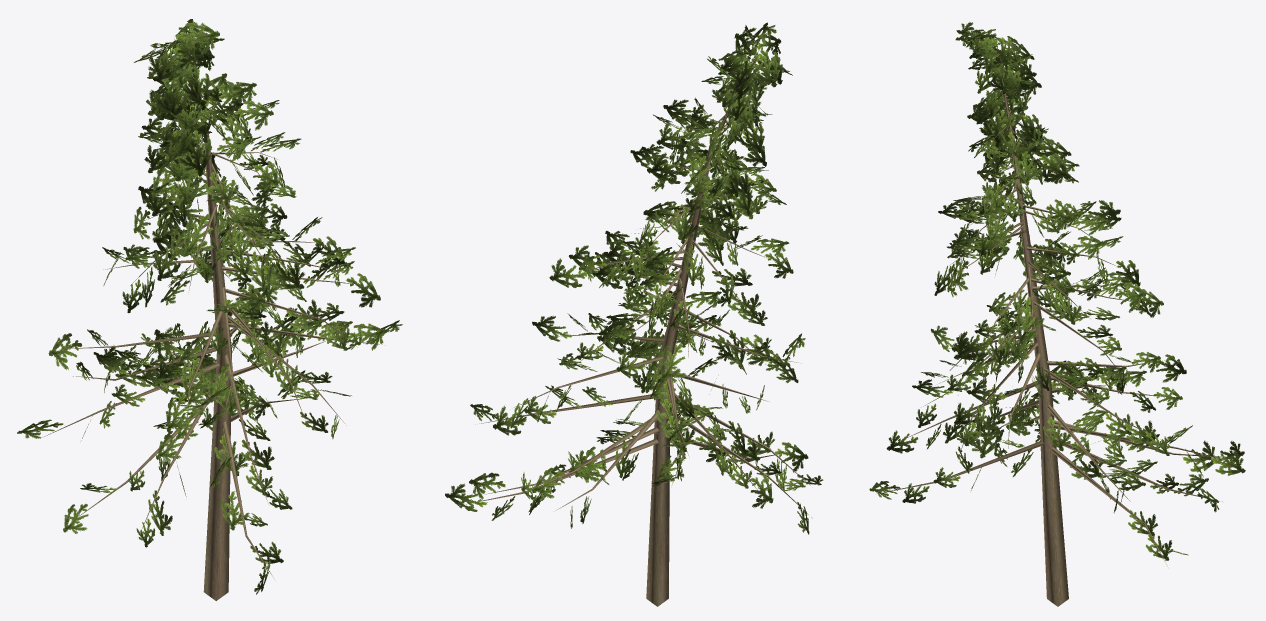
Rendered from ez-pine-02-far.glb.
3 views of the same model, side by side, from view 1: azimuth 30°, elevation 25°; view 2: azimuth 150°, elevation 25°; view 3: azimuth 270°, elevation 25° (orthographic). The views are drawn at different scales.
Parts seen in each view (by area): view 1: leaves, branches; view 2: leaves, branches; view 3: leaves, branches.
Part boxes in pixels (left/top/right/bottom): leaves: left=17, top=19, right=402, bottom=594; branches: left=44, top=39, right=382, bottom=600; leaves: left=445, top=22, right=823, bottom=534; branches: left=464, top=49, right=812, bottom=606; leaves: left=869, top=22, right=1245, bottom=560; branches: left=878, top=37, right=1232, bottom=606.
Bounding box in the file's own units: 29.02 × 50.25 × 32.03.
Materials: 2 (2 with a texture image).
